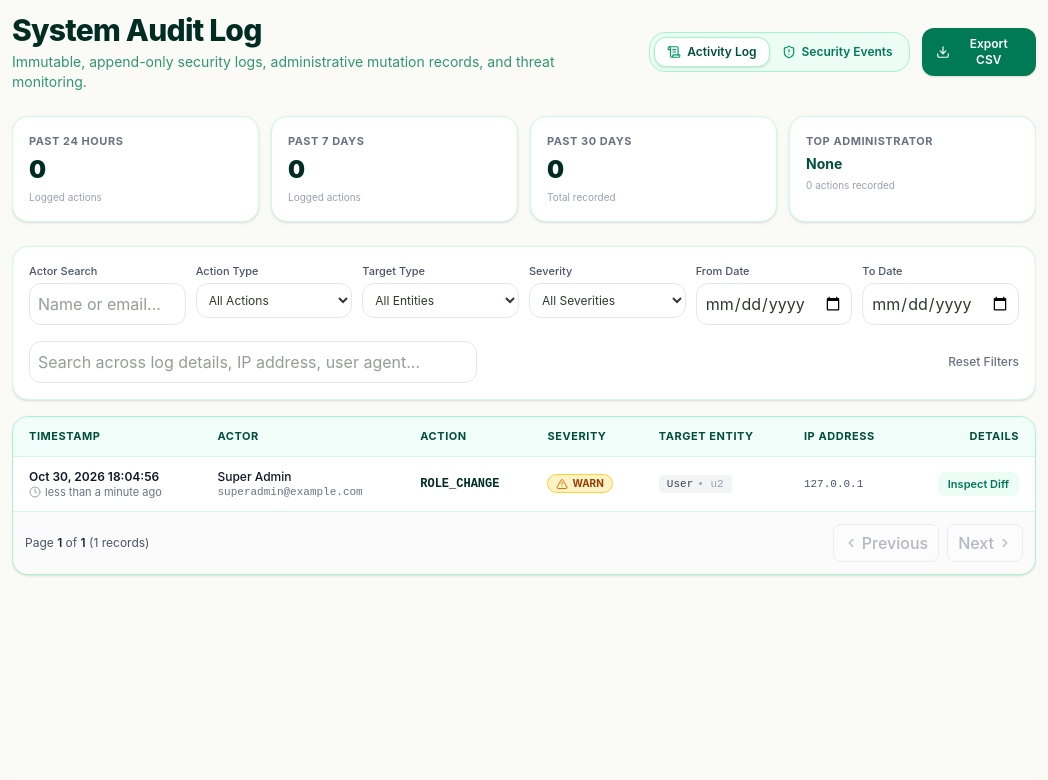
Test: Frontend System Feature Tests (Part S1) › AuditLogPage › renders audit events, filter controls, and security events tab
Expected: the heading "System Audit Log" is shown, [12,12,262,48]
Expected: the button "Export CSV" is shown, [922,28,1036,76]
// Click Security Events tab
What coordinates should you click on to do the following:
click the button "Security Events"
I would click on:
 (837, 52)
Its box is [770,37,905,67].
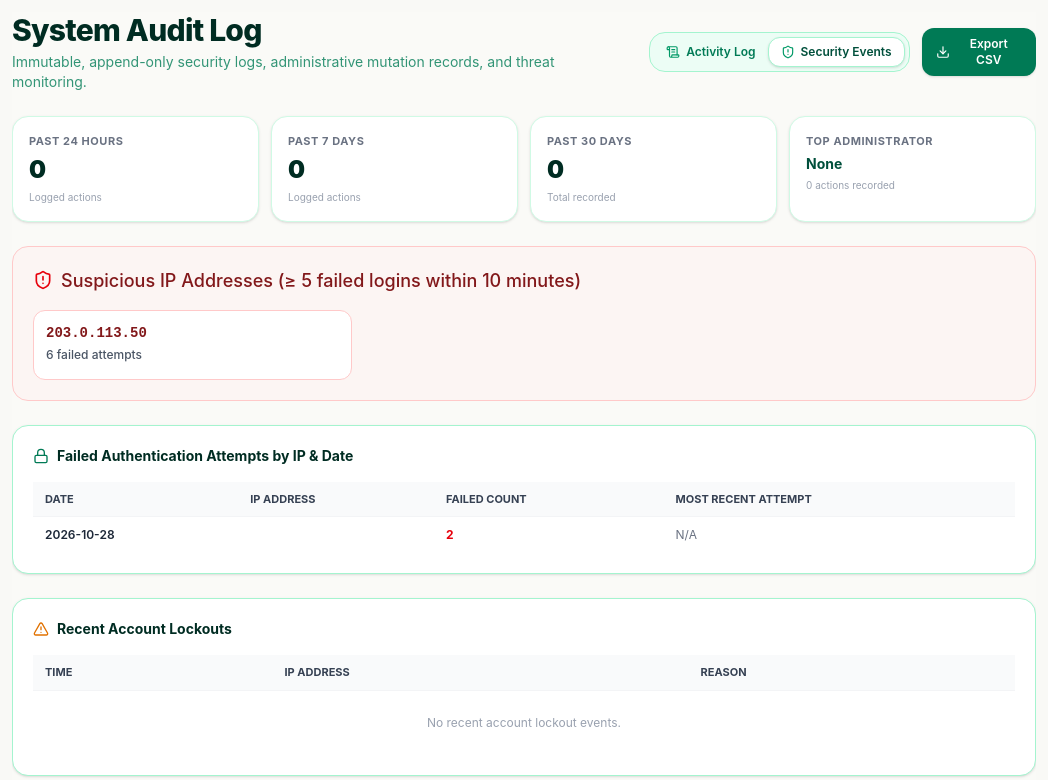
Expected: the text "203.0.113.50" is shown, [46,324,147,340]
Expected: the text "6 failed attempts" is shown, [46,346,142,362]
